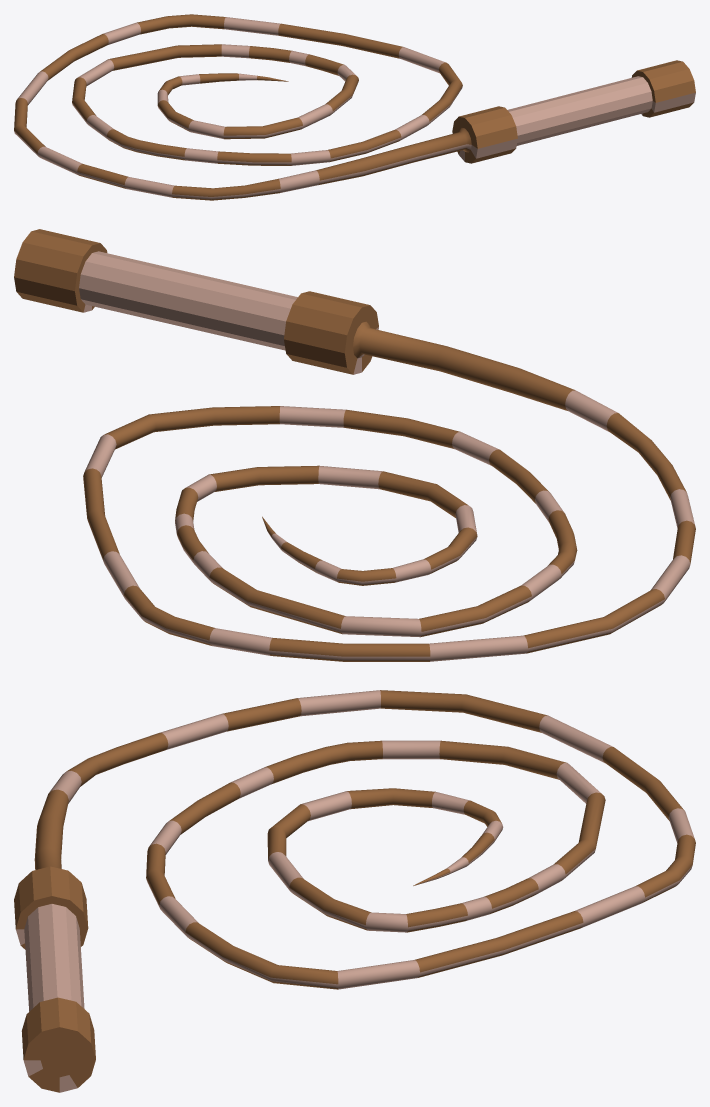
3 renders of one model, top to bottom at view 1: azimuth 30°, elevation 25°; view 2: azimuth 150°, elevation 25°; view 3: azimuth 270°, elevation 25°, orthographic. The views are drawn at different scales.
Parts seen in each view (by area): view 1: Line003; view 2: Line003; view 3: Line003.
Boxes of the visible parts, x1,y1,x2,y2 form: Line003: (14,14,695,200); Line003: (14,229,695,661); Line003: (14,690,695,1092).
Bounding box in the file's own units: 480550 × 38586 × 354207.
